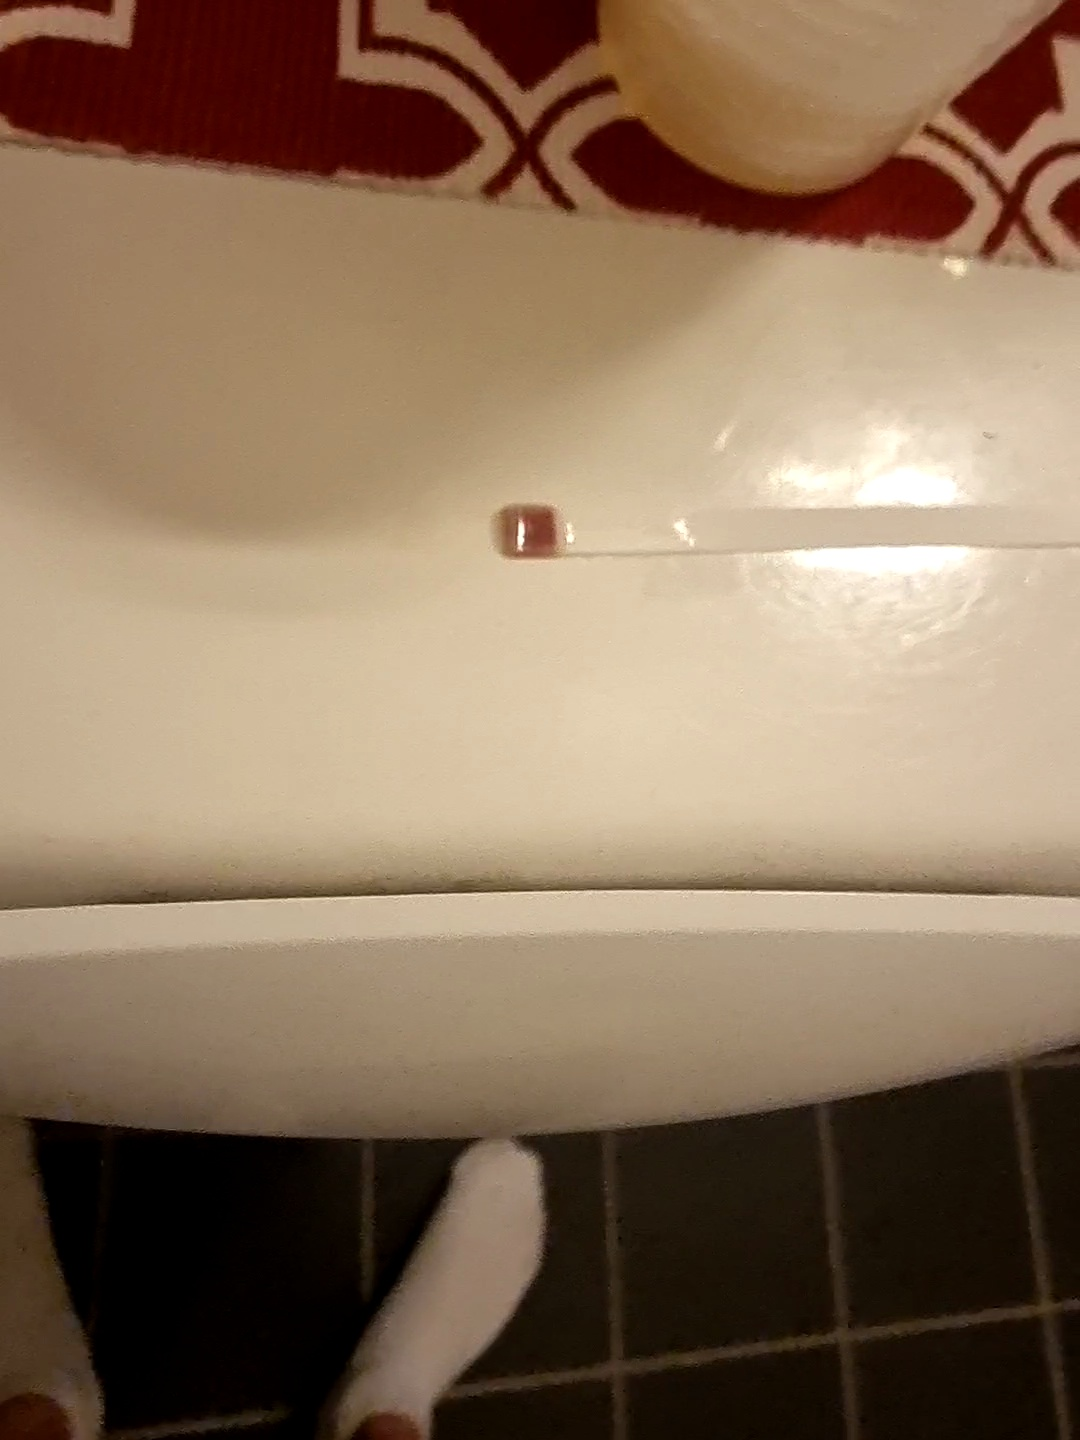keto-tip: (497, 501, 565, 560)
